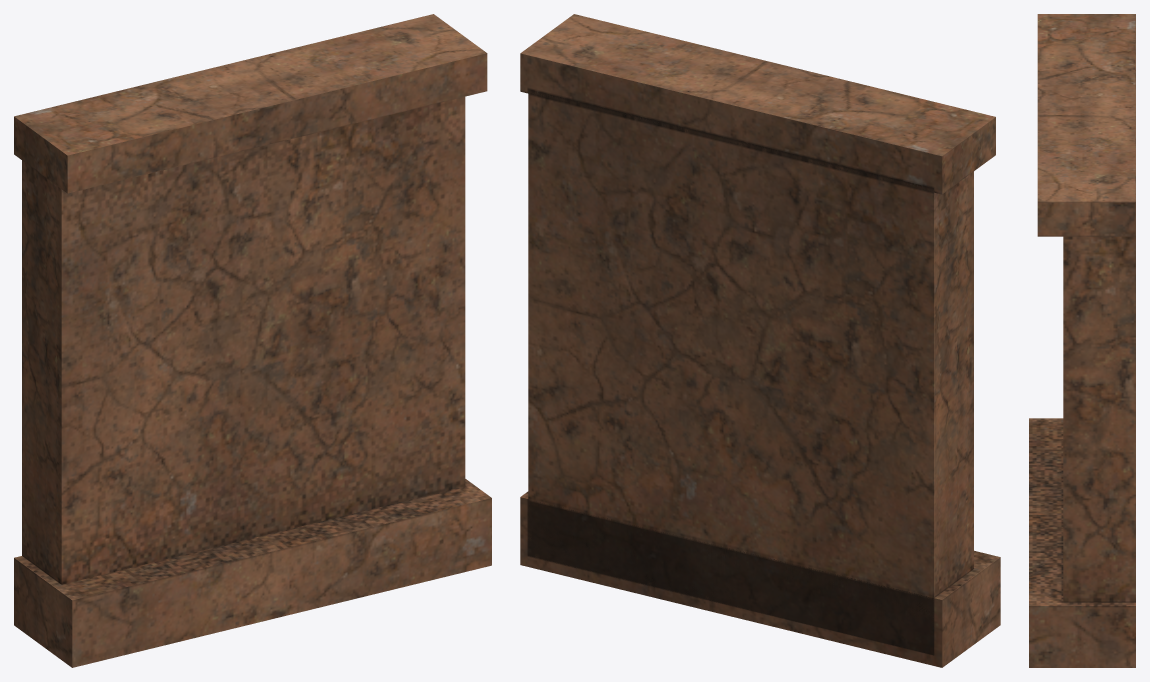
Rendered from wall_straight.glb.
The picture shows the model from 3 angles, left to right: view 1: azimuth 30°, elevation 25°; view 2: azimuth 150°, elevation 25°; view 3: azimuth 270°, elevation 25°; orthographic projection. The views are drawn at different scales.
Visible parts, largest first — view 1: wall_straight; view 2: wall_straight; view 3: wall_straight.
Part boxes in pixels (x1,y1,x2,y2): wall_straight: [14, 14, 491, 667]; wall_straight: [520, 14, 1000, 667]; wall_straight: [1029, 14, 1135, 667].
Size of the model in its own units: 2.08 by 2.41 by 0.5.
1 material, 1 textured.
